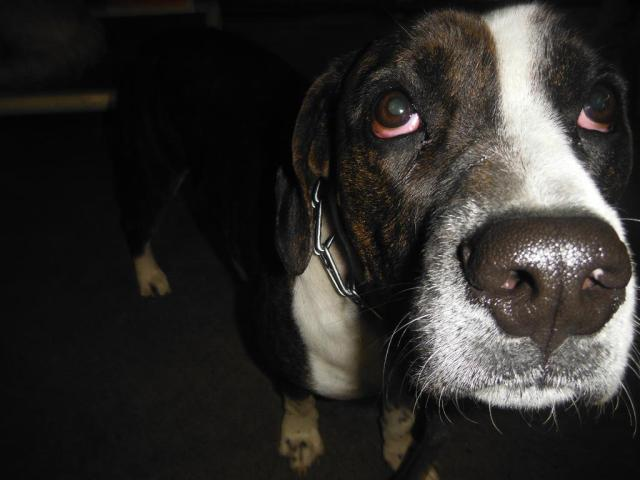Dog: (107, 0, 640, 480)
